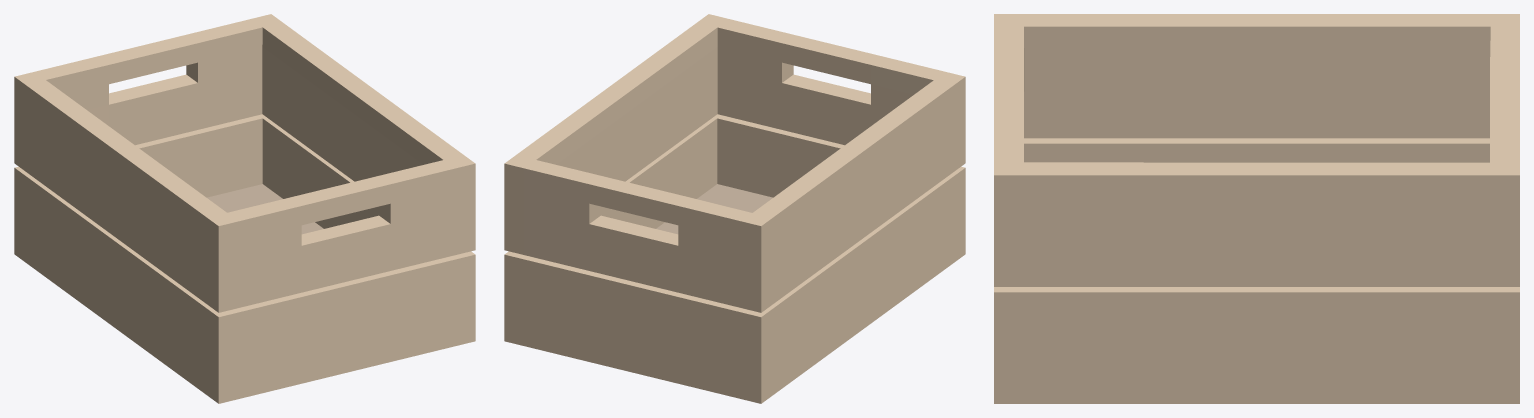
Rendered from LightBasket.fbx.
3 views of the same model, side by side, from view 1: azimuth 30°, elevation 25°; view 2: azimuth 150°, elevation 25°; view 3: azimuth 270°, elevation 25° (orthographic). The views are drawn at different scales.
Visible parts, largest first — view 1: Basket; view 2: Basket; view 3: Basket.
Part boxes in pixels (x1,y1,x2,y2): Basket: (14, 14, 475, 403); Basket: (504, 14, 965, 403); Basket: (994, 14, 1519, 403).
Size of the model in its own units: 70.38 by 46.54 by 96.96.
